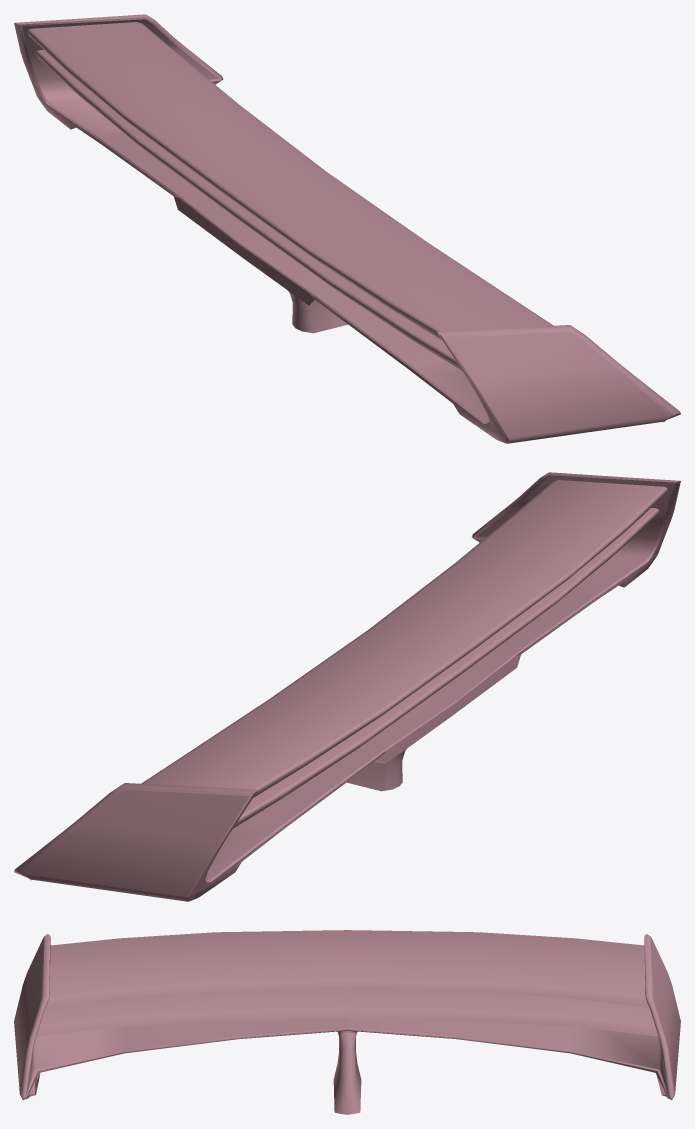
3 views of the same model, one above another, from view 1: azimuth 30°, elevation 25°; view 2: azimuth 150°, elevation 25°; view 3: azimuth 270°, elevation 25° (orthographic). The views are drawn at different scales.
Visible parts, largest first — view 1: sp0; view 2: sp0; view 3: sp0.
Boxes of the visible parts, left/top/right/bottom form: sp0: left=14, top=14, right=680, bottom=443; sp0: left=14, top=472, right=680, bottom=901; sp0: left=14, top=930, right=680, bottom=1114.
Size of the model in its own units: 0.4486 by 0.3001 by 1.53.
